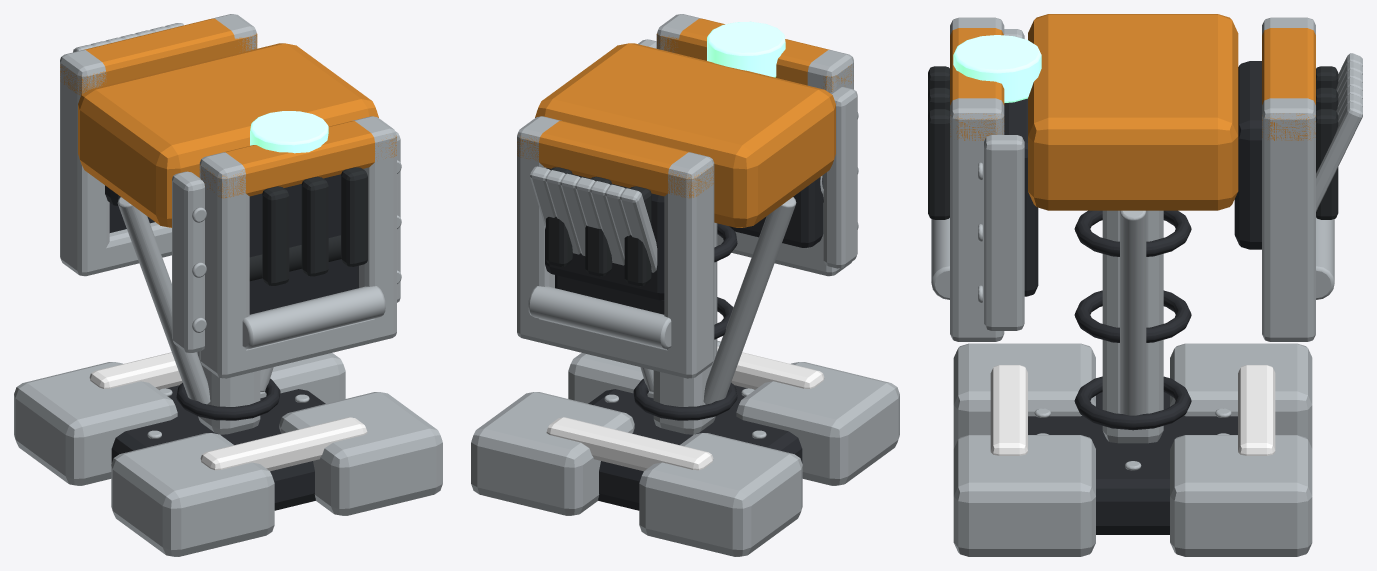
File: belt_pole.glb
3 views of the same model, side by side, from view 1: azimuth 30°, elevation 25°; view 2: azimuth 150°, elevation 25°; view 3: azimuth 270°, elevation 25° (orthographic). The views are drawn at different scales.
Parts seen in each view (by area): view 1: Main_Body, StatusLens; view 2: Main_Body, StatusLens; view 3: Main_Body, StatusLens.
Boxes of the visible parts, left/top/right/bottom form: Main_Body: left=14, top=14, right=442, bottom=556; StatusLens: left=250, top=111, right=328, bottom=153; Main_Body: left=471, top=14, right=899, bottom=556; StatusLens: left=707, top=21, right=785, bottom=77; Main_Body: left=928, top=14, right=1362, bottom=556; StatusLens: left=953, top=35, right=1041, bottom=102.
Size of the model in its own units: 1.06 by 1.42 by 1.28.
